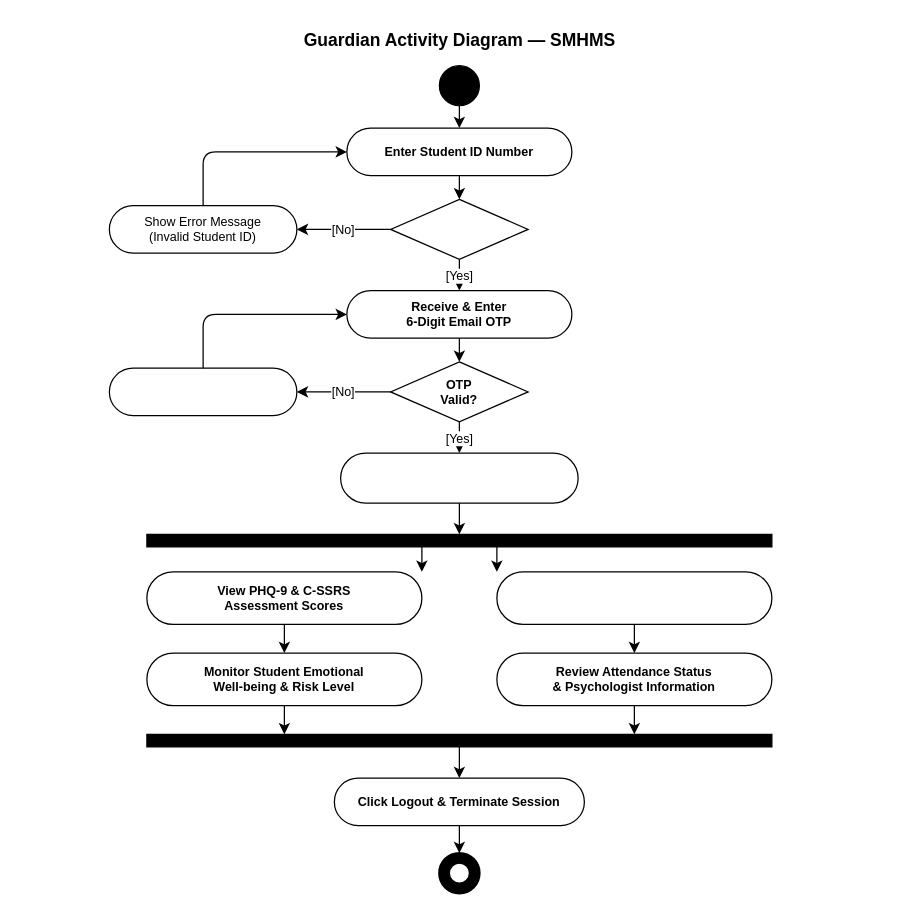
This 918x915 diagram has some shape labels left out. The box of each missing label's shape, as (x1, y1, x2, y2) in pixels:
Access Guardian Dashboard: (339, 452, 578, 503)
Browse Past Counseling Session Records: (496, 571, 772, 624)
Show Error Message (Invalid / Expired OTP): (108, 367, 297, 416)
Student Found?: (389, 198, 528, 259)
